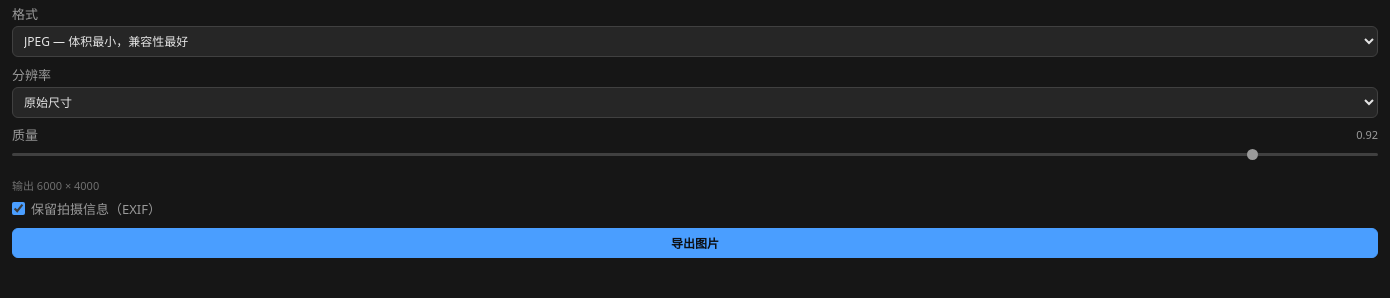
Test: ExportPanel 的 EXIF 保留 › 写入失败时说明图片本身正常
The image size is (1390, 298).
What coordinates should you click on to do the following:
click the button "导出图片"
I would click on:
 (695, 243)
Its box is [12,228,1378,258].
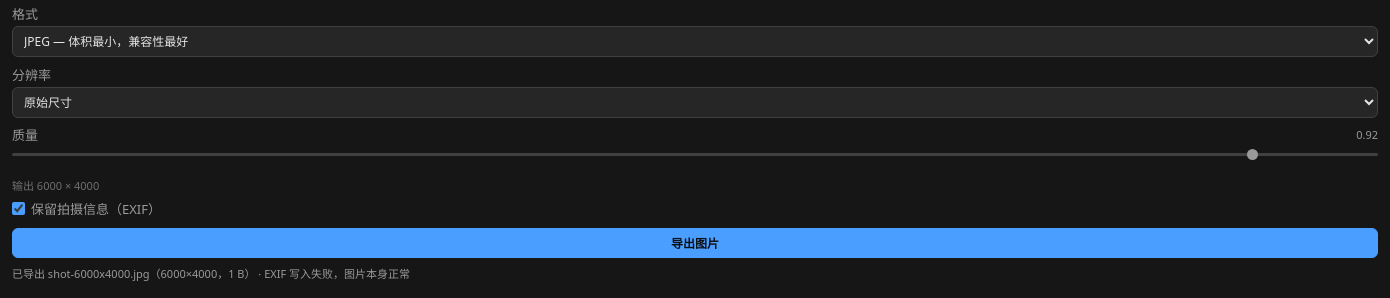
Result: the text "已导出 shot-6000x4000.jpg（6000×4000，1 B） · EXIF 写入失败，图片本身正常" is shown at [12,266,410,281]
